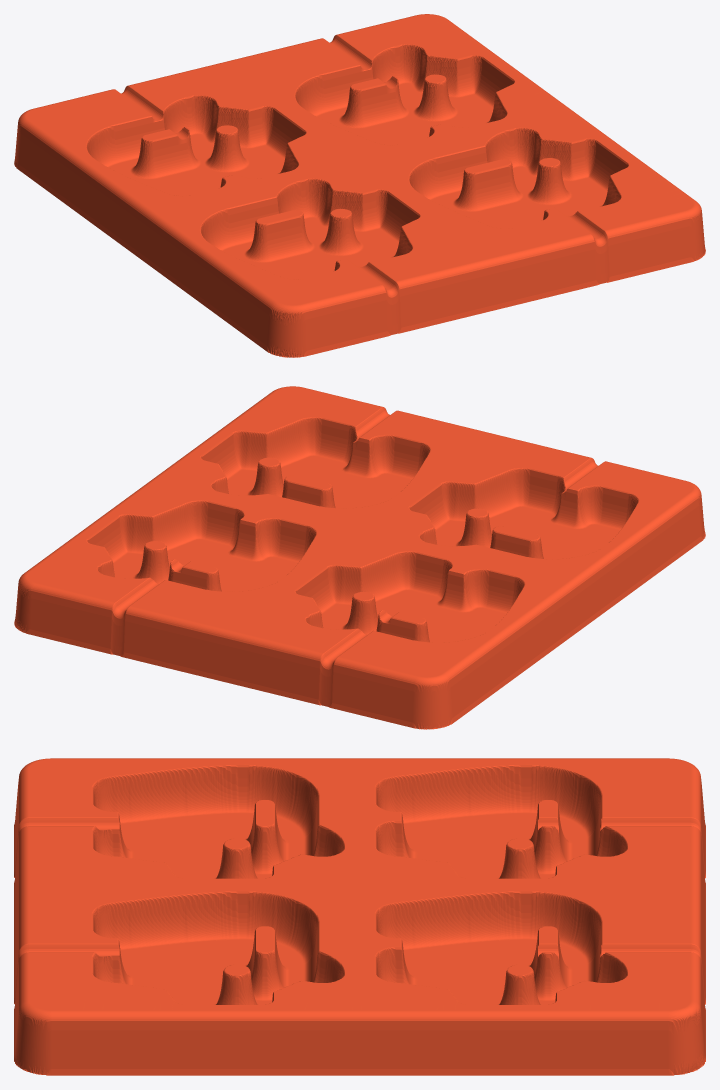
The model's file is mold.glb.
3 renders of one model, top to bottom at view 1: azimuth 30°, elevation 25°; view 2: azimuth 150°, elevation 25°; view 3: azimuth 270°, elevation 25°, orthographic. The views are drawn at different scales.
Parts seen in each view (by area): view 1: geometry_0; view 2: geometry_0; view 3: geometry_0.
Part boxes in pixels (x1,y1,x2,y2): geometry_0: (14, 14, 705, 357); geometry_0: (14, 386, 705, 729); geometry_0: (14, 758, 705, 1075).
Size of the model in its own units: 0.1497 by 0.0155 by 0.1659.
